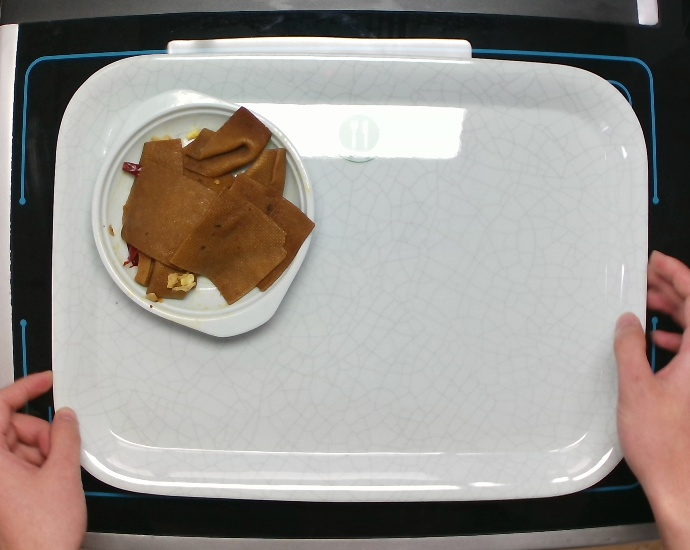JYsf-Shuang_Er_Pan: (85, 86, 319, 344)
